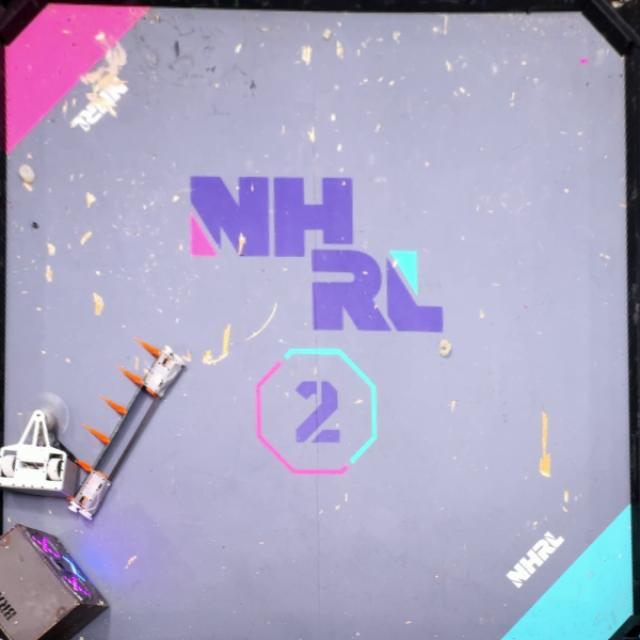housebot: (0, 522, 112, 640)
robot: (62, 335, 190, 523), (0, 387, 74, 494)
